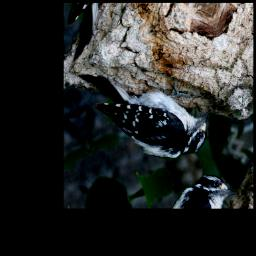Woodpecker: (77, 22, 222, 193)
